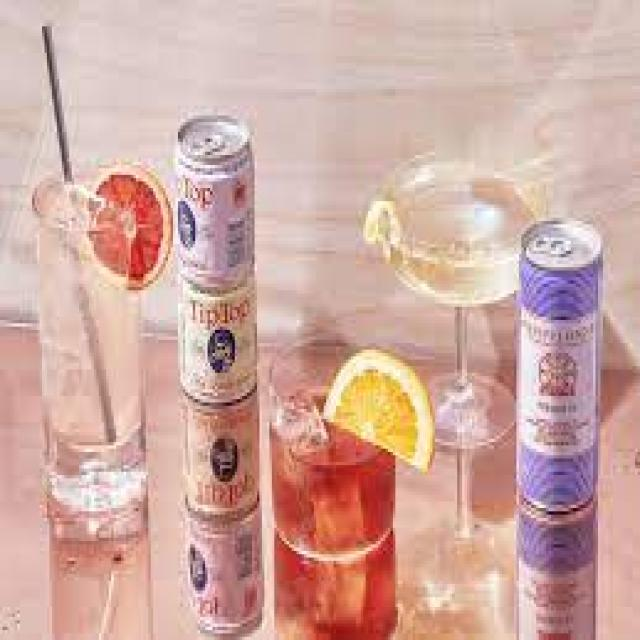Cans: (166, 106, 270, 406), (514, 205, 608, 521)
